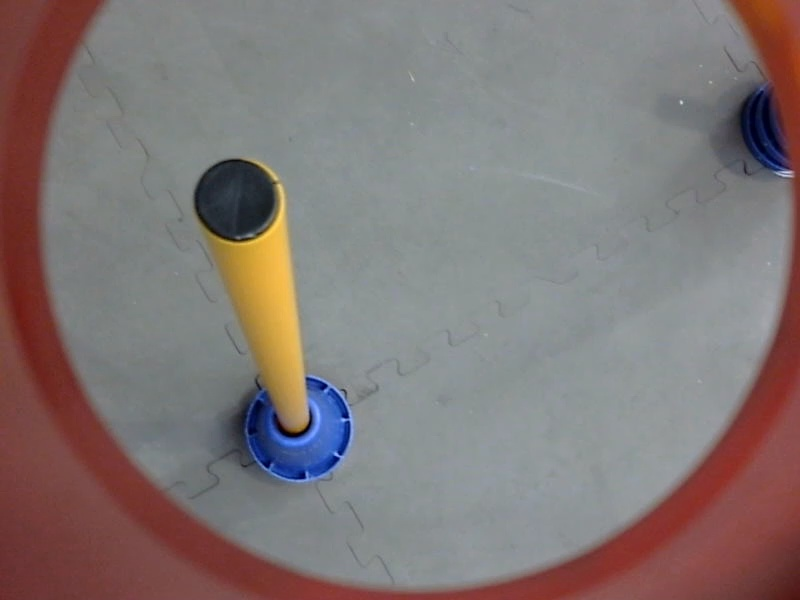tip: (189, 151, 289, 250)
